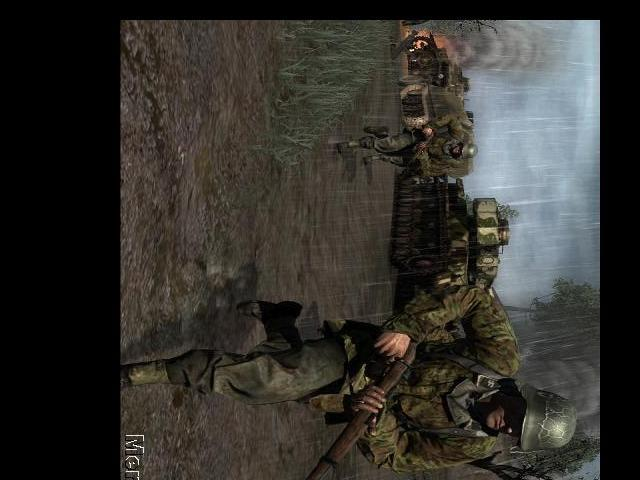larga: (303, 340, 422, 480), (406, 129, 434, 165)
